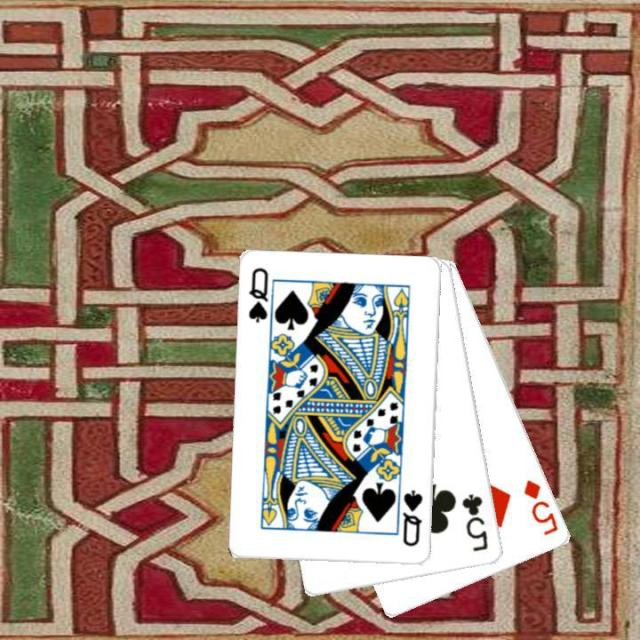5C: (458, 490, 490, 554)
5D: (520, 476, 561, 538)
QS: (399, 486, 425, 548), (244, 264, 270, 324)
